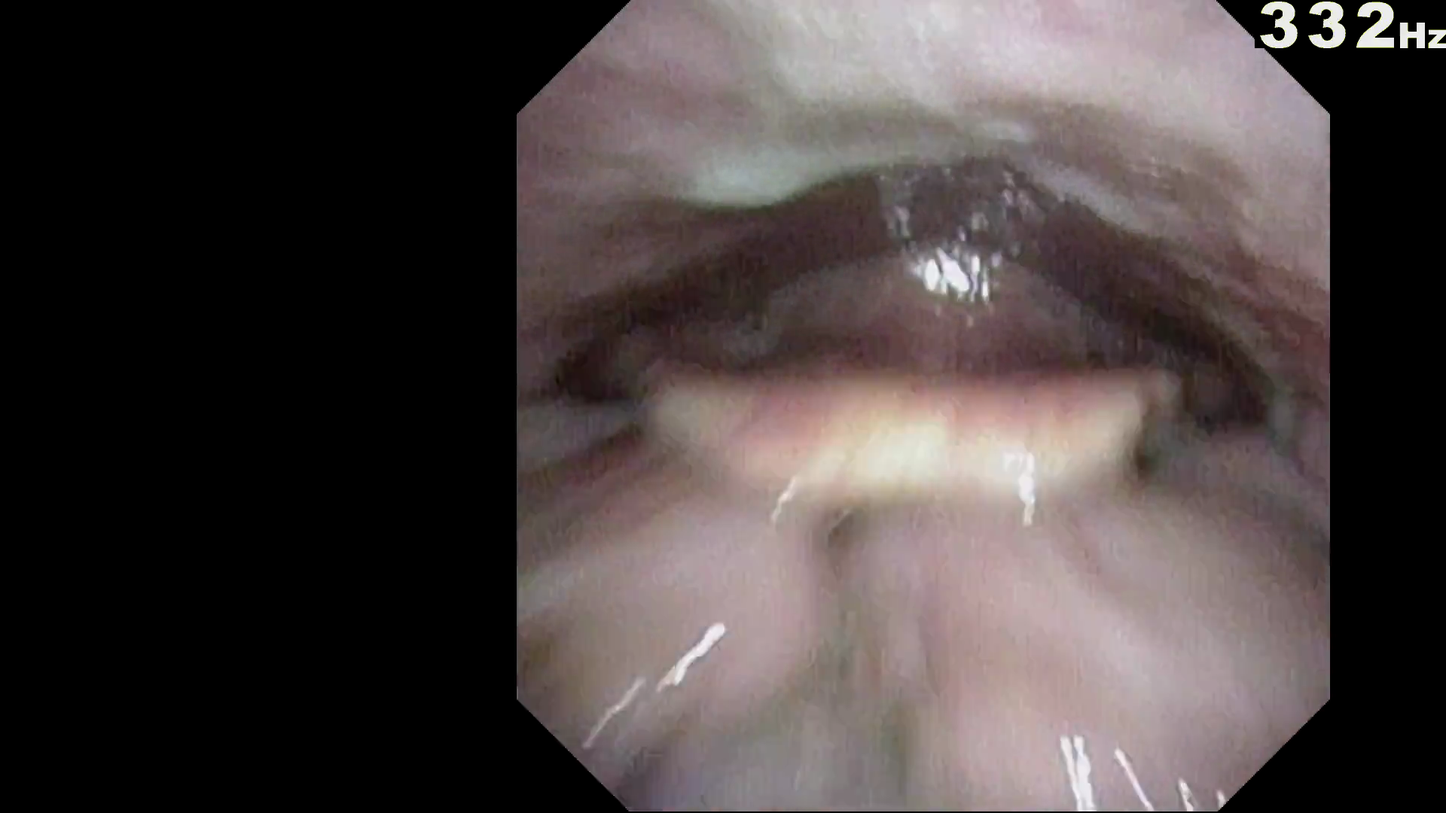epiglottis: (593, 464, 1195, 619)
trachea: (845, 414, 1005, 486)
